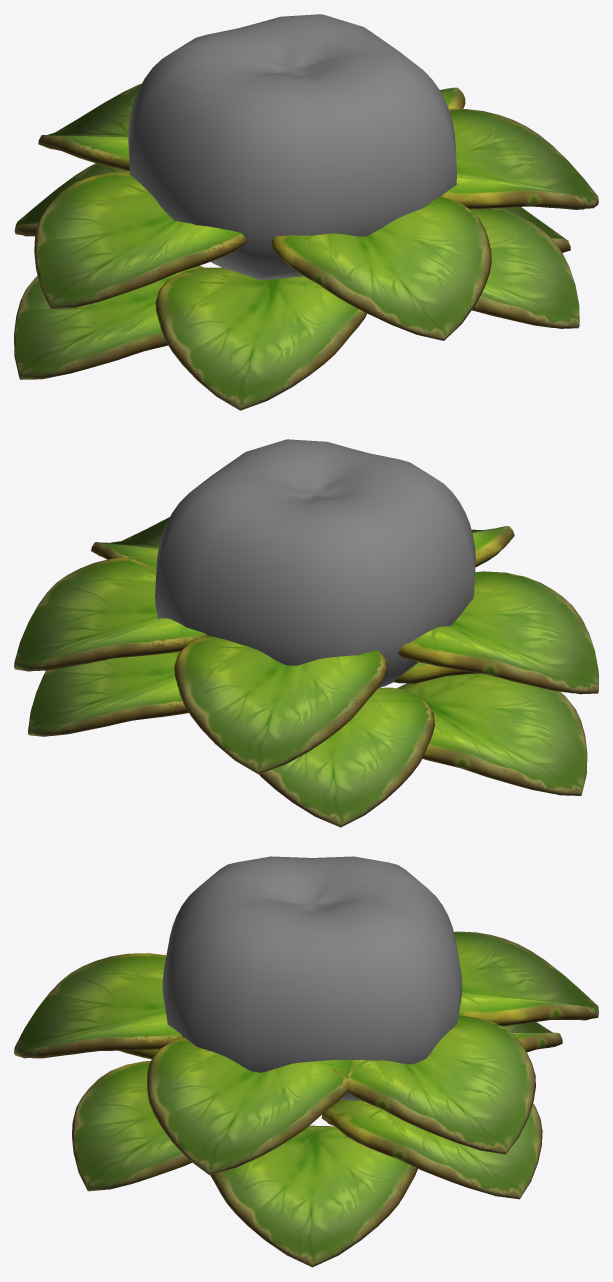
Rendered from Muchicuchi_2 3.fbx.
The picture shows the model from 3 angles, top to bottom: view 1: azimuth 30°, elevation 25°; view 2: azimuth 150°, elevation 25°; view 3: azimuth 270°, elevation 25°; orthographic projection. The views are drawn at different scales.
Parts seen in each view (by area): view 1: Object055, Object052, Object053, Object111, Object108, Object110; view 2: Object055, Object052, Object110, Object111, Object109, Object108, Object053; view 3: Object055, Object052, Object108, Object109, Object053, Object110.
Part boxes in pixels (bbox=[...]): Object055: bbox=[128, 14, 456, 279]; Object052: bbox=[14, 163, 579, 410]; Object053: bbox=[271, 196, 491, 340]; Object111: bbox=[34, 172, 247, 309]; Object108: bbox=[441, 109, 598, 209]; Object110: bbox=[38, 83, 141, 171]; Object055: bbox=[155, 439, 475, 688]; Object052: bbox=[28, 651, 587, 827]; Object110: bbox=[174, 635, 386, 774]; Object111: bbox=[398, 571, 598, 694]; Object109: bbox=[14, 557, 206, 671]; Object108: bbox=[91, 517, 169, 568]; Object053: bbox=[471, 526, 514, 567]; Object055: bbox=[162, 856, 462, 1100]; Object052: bbox=[72, 1022, 562, 1267]; Object108: bbox=[147, 1037, 354, 1175]; Object109: bbox=[332, 1015, 535, 1154]; Object053: bbox=[14, 953, 182, 1058]; Object110: bbox=[454, 931, 598, 1026].
Bounding box in the file's own units: 1.38 × 0.6248 × 1.32.
